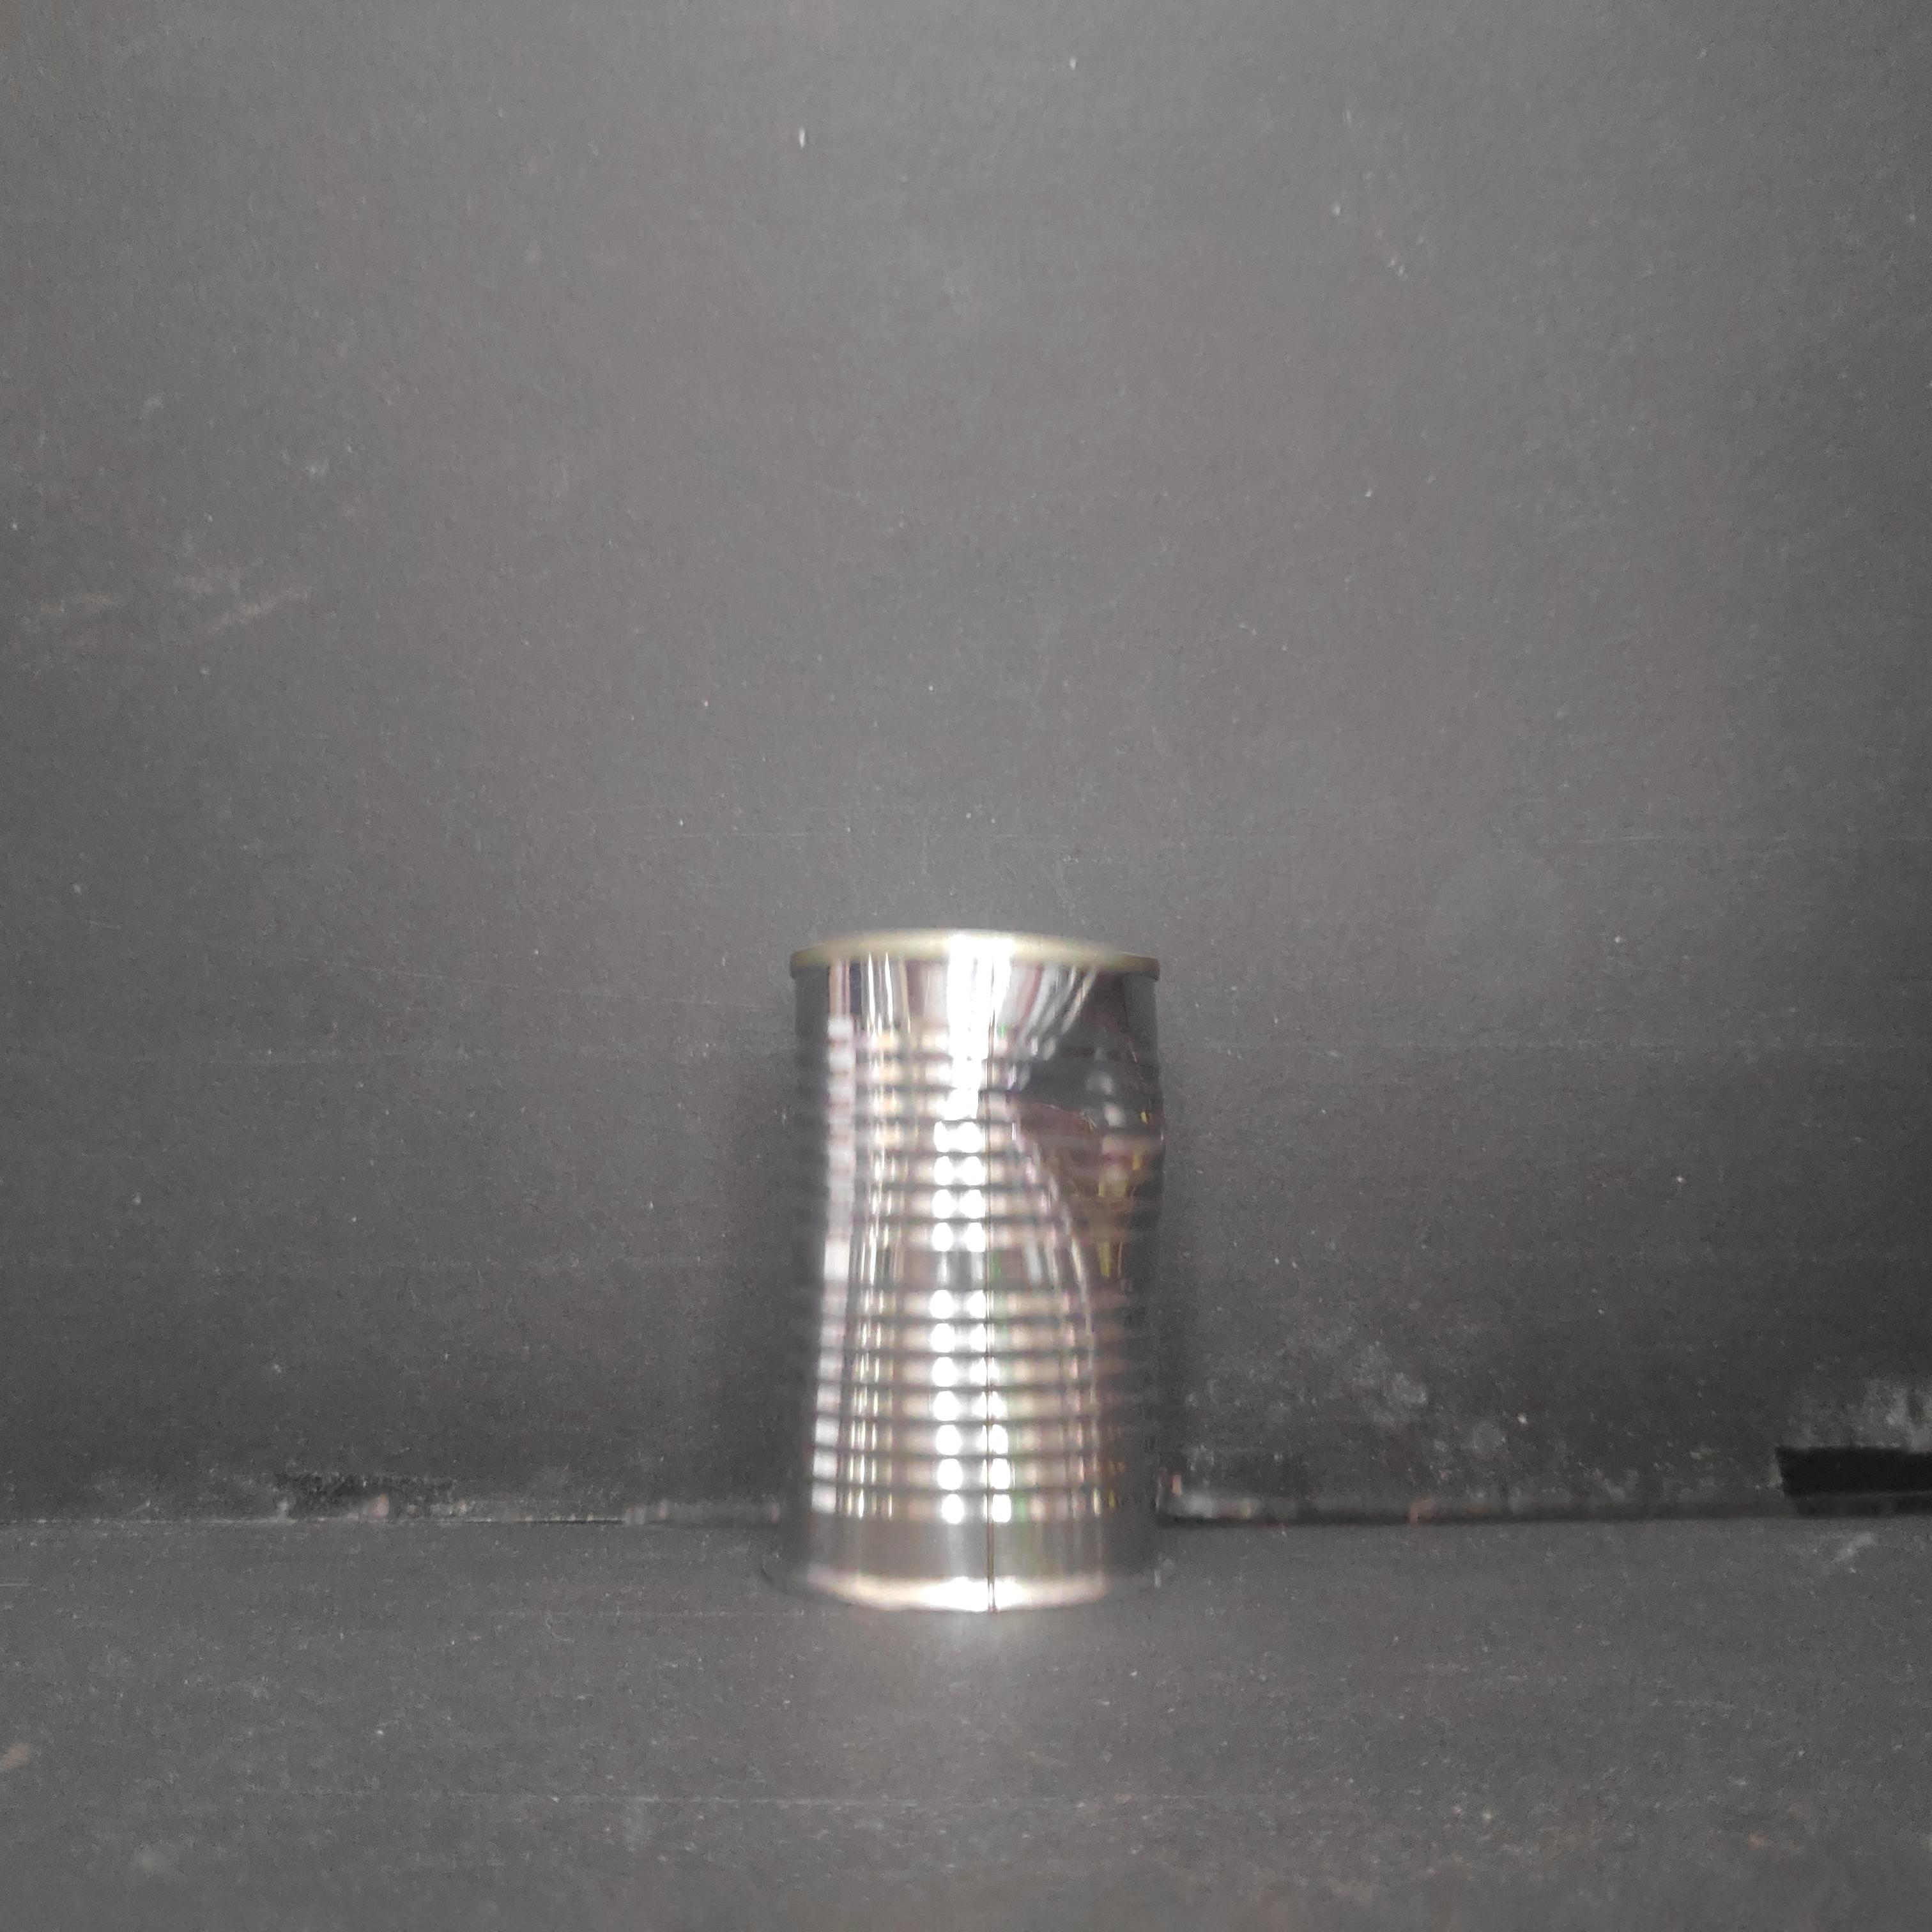Minor Defect: (771, 924, 1182, 1626)
